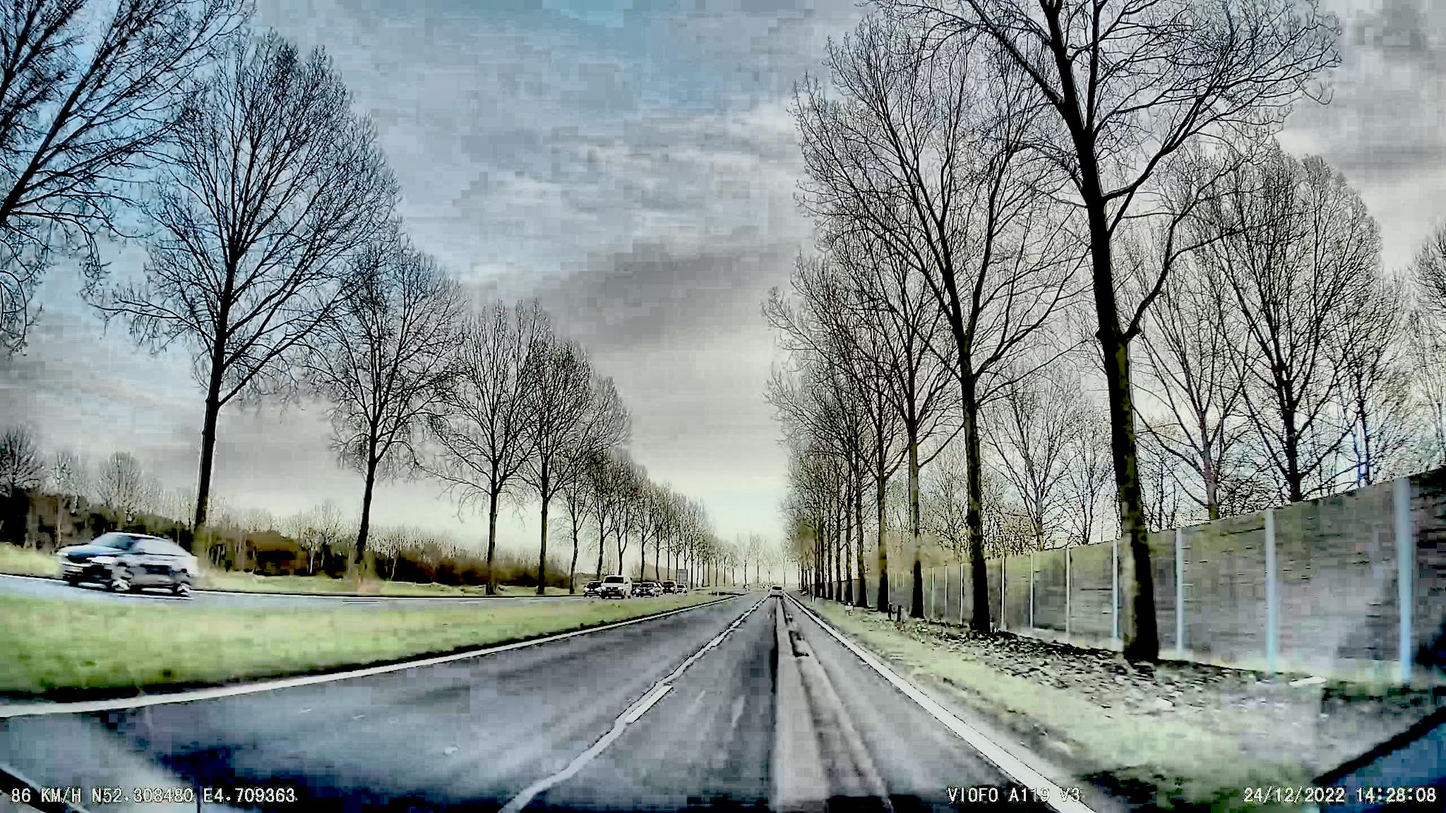Roads: (0, 599, 1049, 813)
